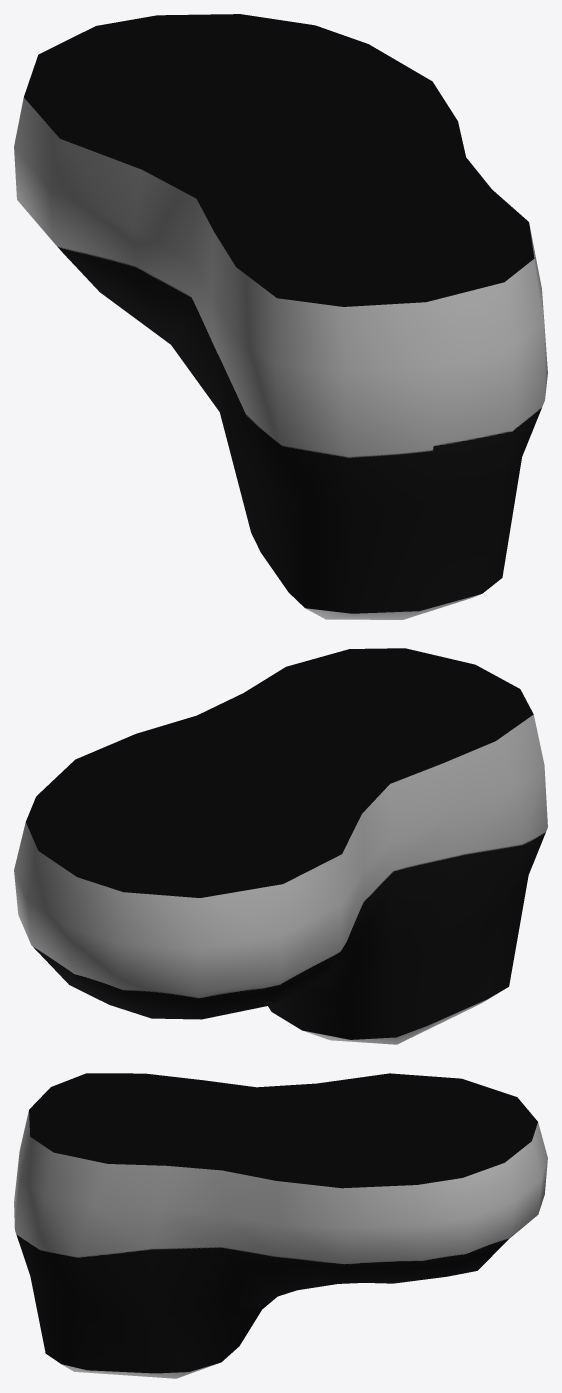
The model's file is l_foot.FBX.
3 renders of one model, top to bottom at view 1: azimuth 30°, elevation 25°; view 2: azimuth 150°, elevation 25°; view 3: azimuth 270°, elevation 25°, orthographic. The views are drawn at different scales.
Visible parts, largest first — view 1: l_foot; view 2: l_foot; view 3: l_foot.
Boxes of the visible parts, x1,y1,x2,y2 form: l_foot: (14, 14, 547, 619); l_foot: (14, 648, 547, 1044); l_foot: (14, 1073, 547, 1378).
Bounding box in the file's own units: 105 × 196 × 96.98.
1 material, 1 textured.
